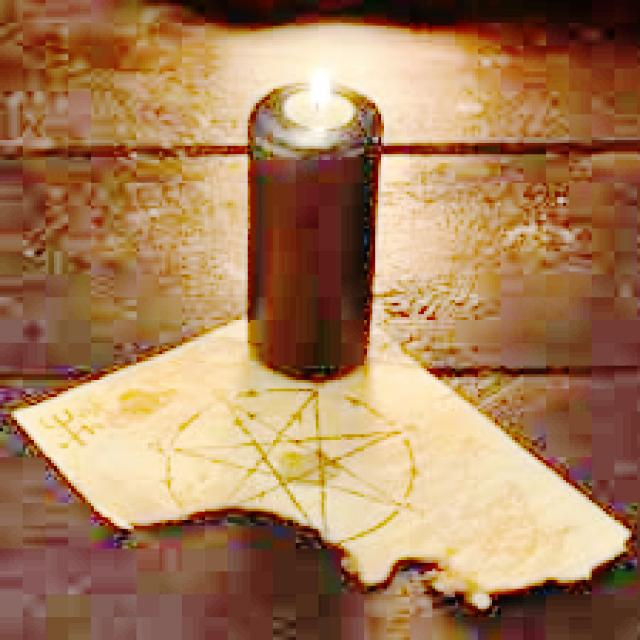api: (294, 64, 345, 115)
